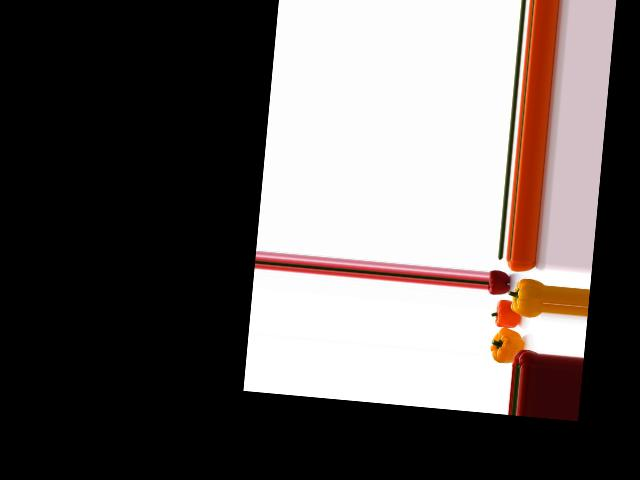bell_pepper: (504, 257, 536, 274)
